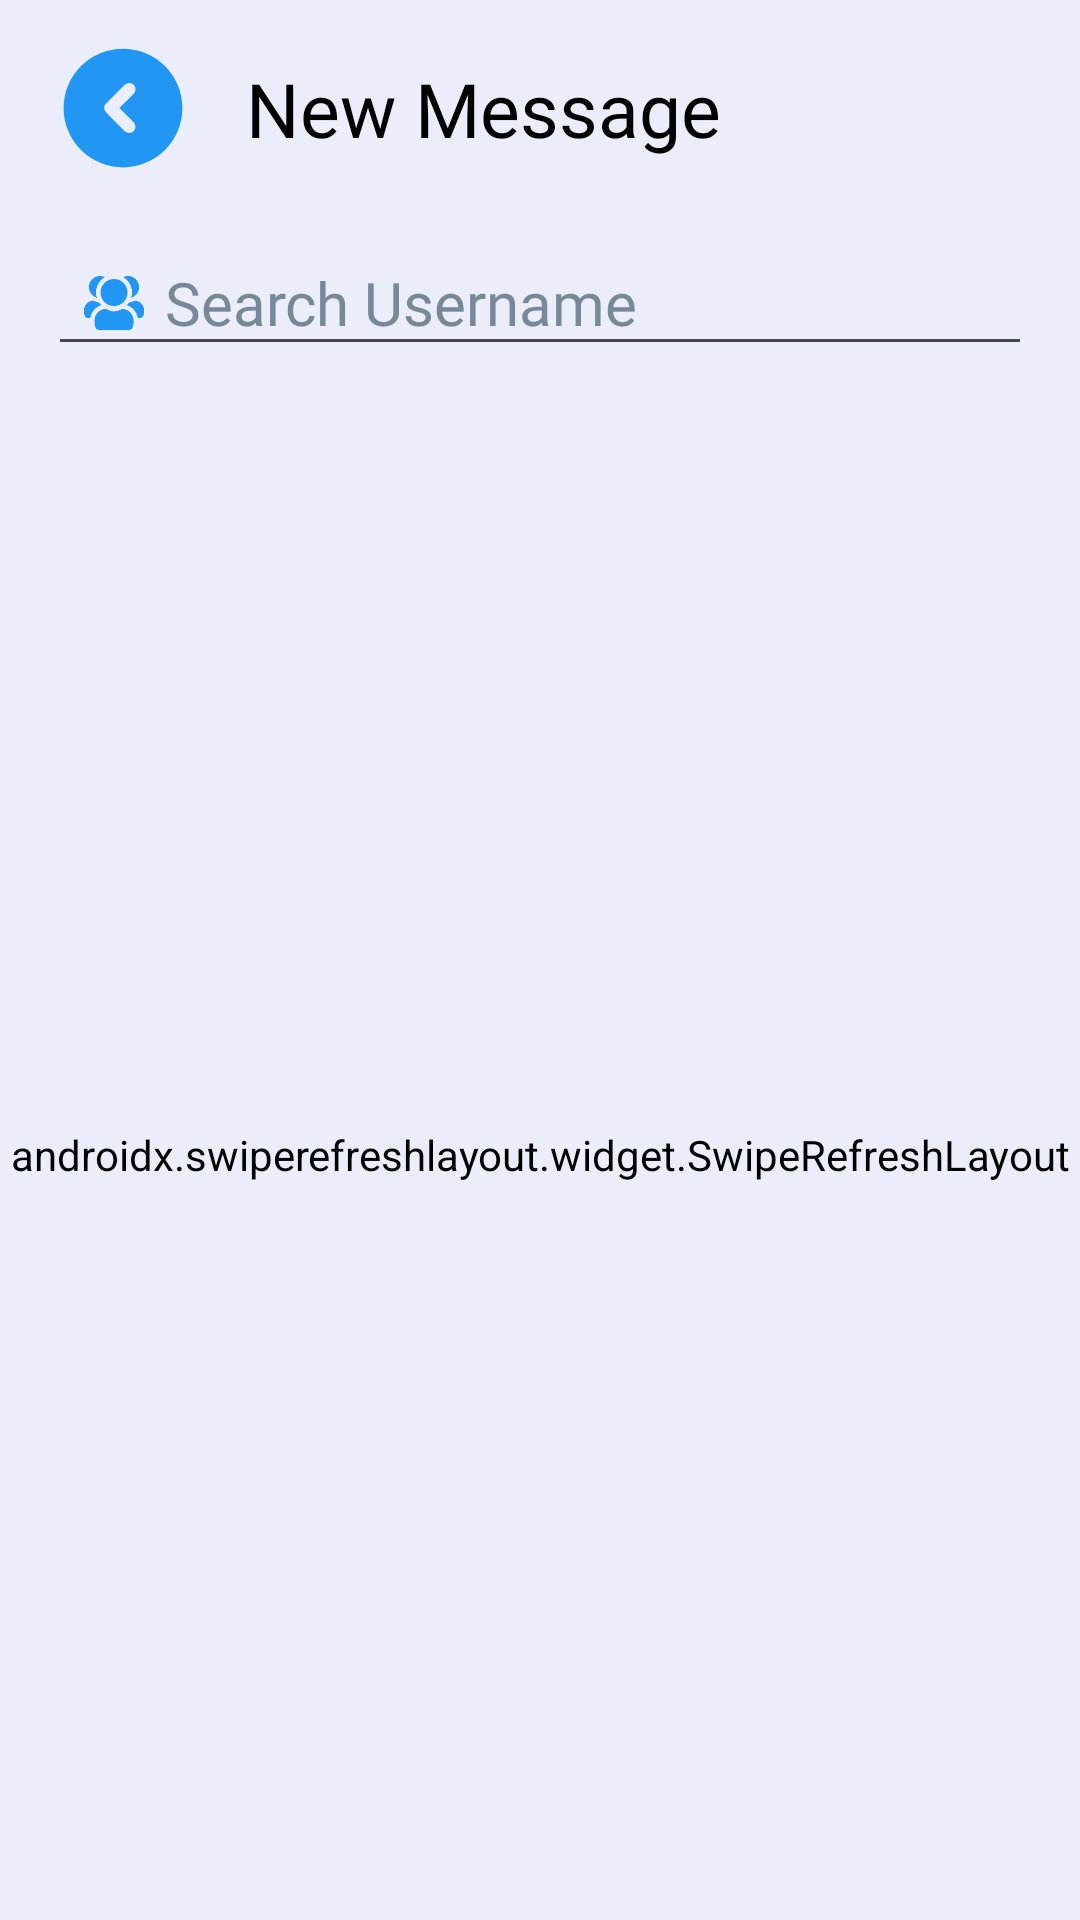

Point at icon controls on the screen. Image size 1080×1920, points as (x=x, y=y).
backbutton: (x=123, y=108)
